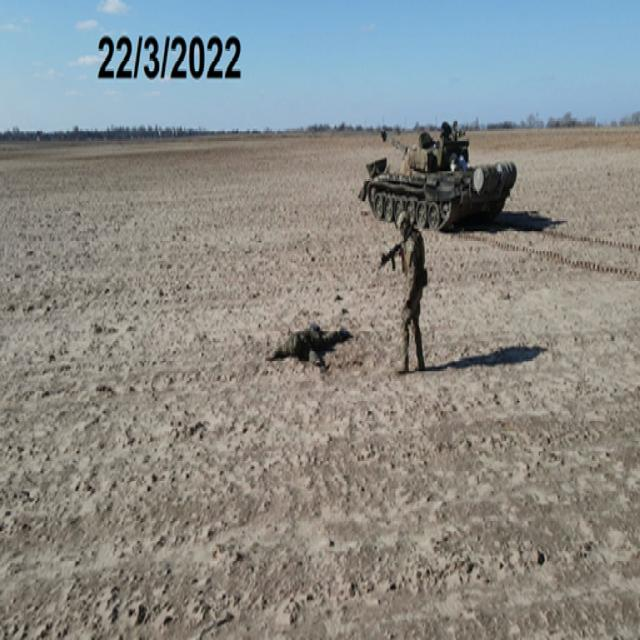TANK: (358, 104, 518, 238)
